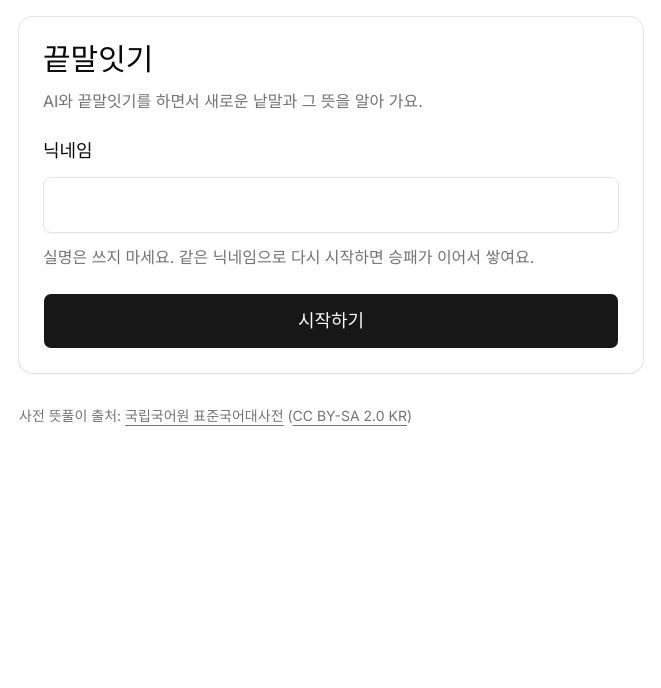
Test: 사전으로 단어 확인 › 사전에서 인정되면 📖와 사전 뜻풀이가 보이고 예문 줄은 없다
Type "하늘" into the field labelled "닉네임" at (331, 205), box [43,177,619,233]
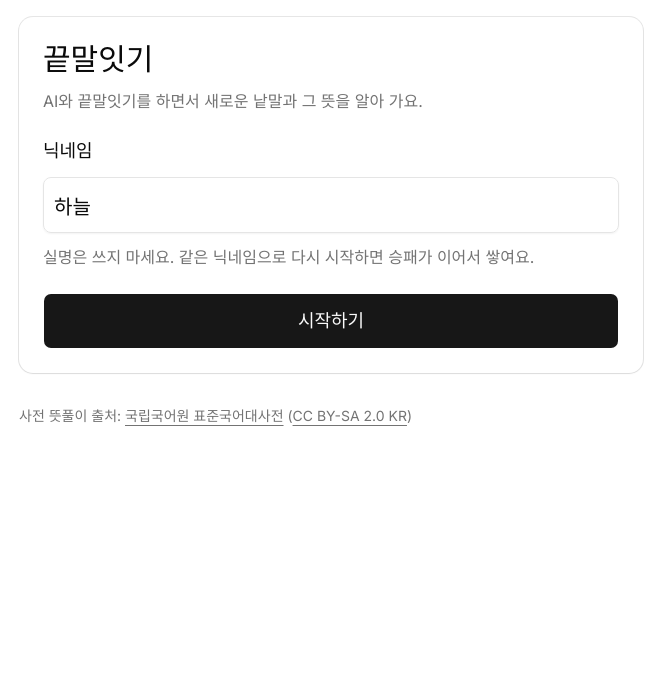
Click the button "시작하기" at (331, 321), box [43,293,619,349]
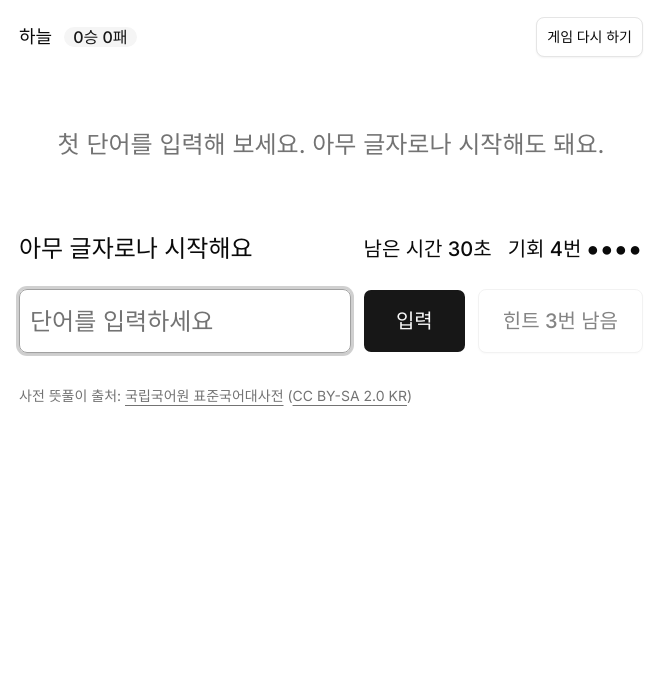
Type "사자" into the field named "단어 입력" at (185, 321), box [19,289,351,353]
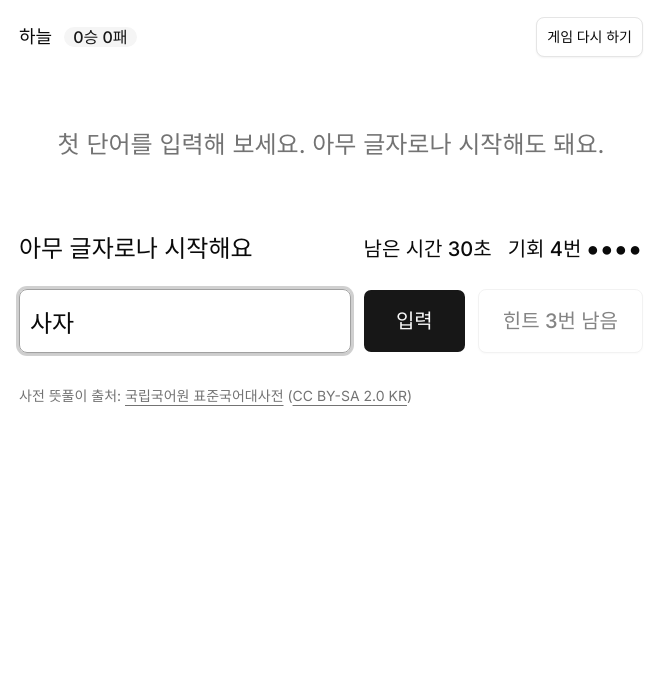
Click the button "입력" at (414, 321), box [363,289,466,353]
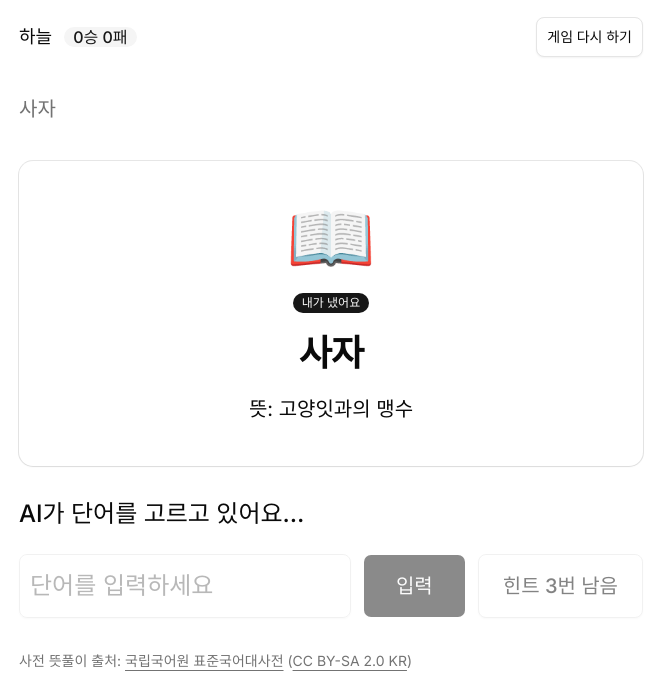
expect the element with test id "word-card" shows "📖": met, box [286,193,376,280]
expect the element with test id "word-card" shows "사자": met, box [299,331,363,375]
expect the element with test id "word-card" shows "고양잇과의 맹수": met, box [279,397,413,421]
